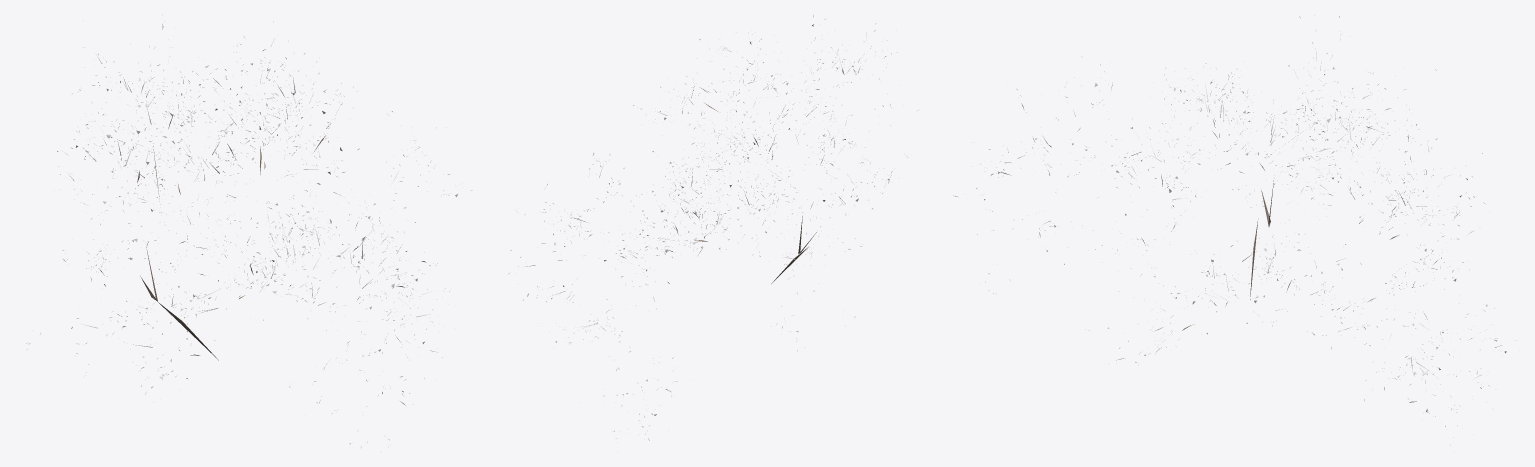
Rendered from tree_small_02.fbx.
The picture shows the model from 3 angles, left to right: view 1: azimuth 30°, elevation 25°; view 2: azimuth 150°, elevation 25°; view 3: azimuth 270°, elevation 25°; orthographic projection. The views are drawn at different scales.
Visible parts, largest first — view 1: tree_small_02_LOD0.001; view 2: tree_small_02_LOD0.001; view 3: tree_small_02_LOD0.001.
Part boxes in pixels (x1,y1,x2,y2): tree_small_02_LOD0.001: (26, 21, 472, 452); tree_small_02_LOD0.001: (509, 15, 919, 452); tree_small_02_LOD0.001: (953, 15, 1517, 446).
Size of what is drawn, in the model's own units: 285 by 301 by 419.
3 materials, 2 textured.
